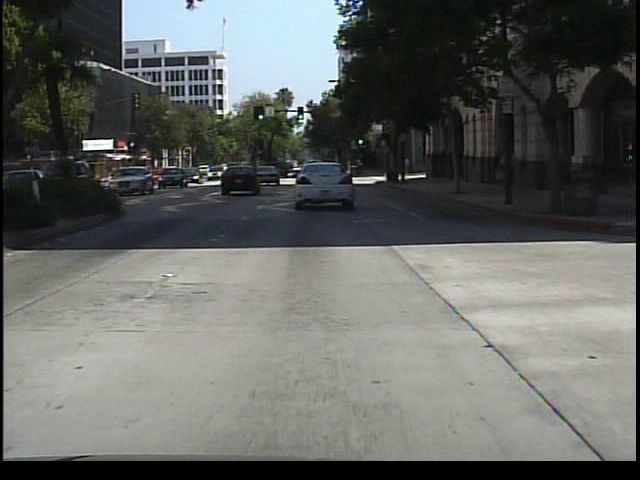person: (498, 149, 519, 202)
